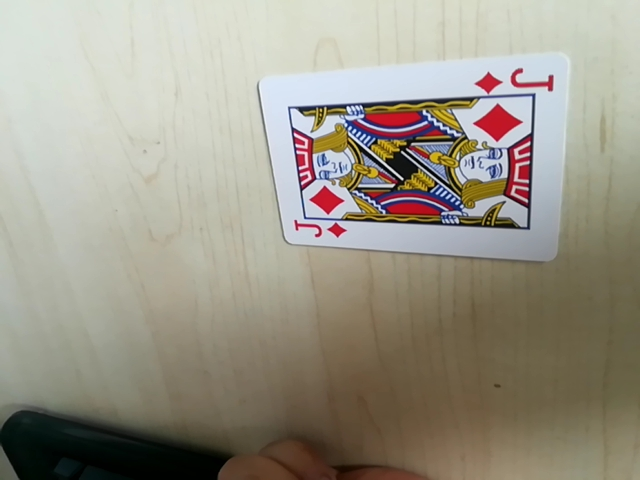fk j: (476, 62, 554, 97), (289, 218, 347, 245)
